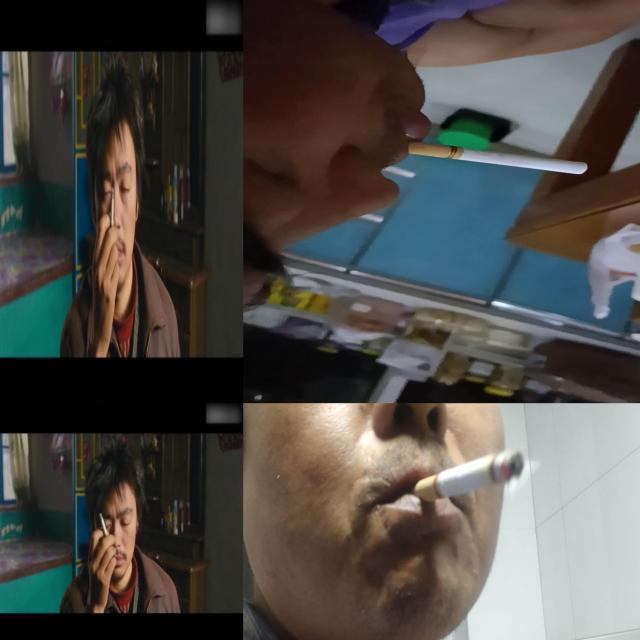smoke: (408, 142, 588, 176), (413, 448, 526, 502), (98, 512, 108, 538), (110, 187, 115, 227)
